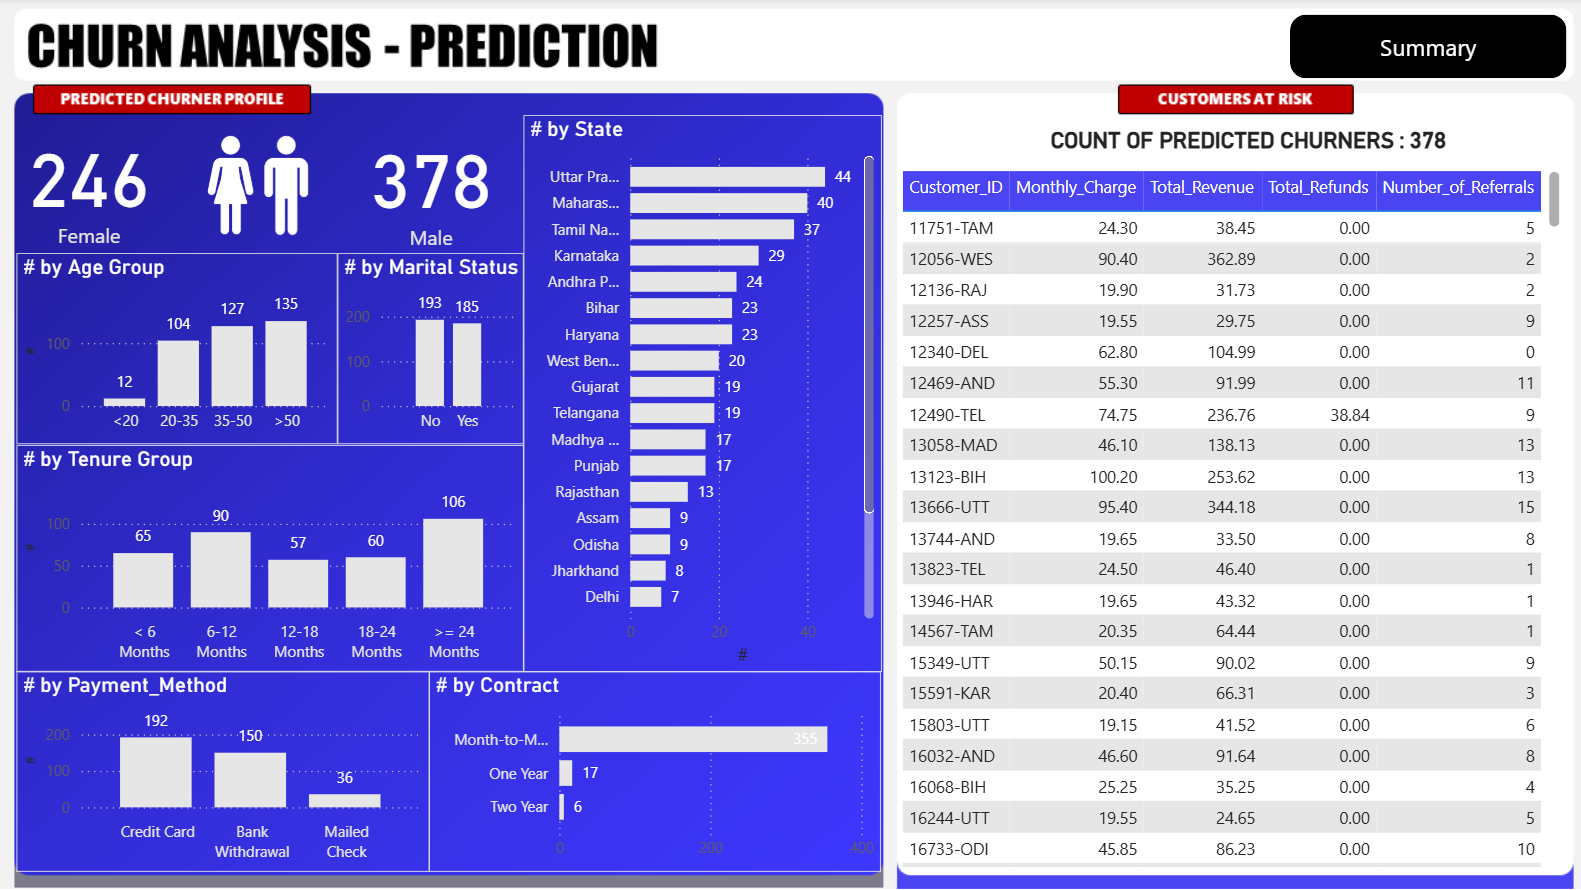

The page's visual inventory and layout, read from the dashboard file:
{"tool":"powerbi","page":{"name":"Churn Prediction","canvas":[1280,720],"ordinal":2},"visuals":[{"type":"tableEx","fields":{"Values":["Predictions.Customer_ID","Predictions.Monthly_Charge","Predictions.Total_Revenue","Predictions.Total_Refunds","Predictions.Number_of_Referrals"]},"box":[721.4,134.3,540,570],"z":0},{"type":"card","fields":{"Values":["tbl_Measures.Title Predicted Churner"]},"box":[731.4,94.3,548.6,40],"z":1},{"type":"card","fields":{"Values":["tbl_Measures.Count Predicted Churner"]},"box":[0,94.3,142.9,110],"z":2},{"type":"card","fields":{"Values":["tbl_Measures.Count Predicted Churner"]},"box":[271.4,95.7,150,110],"z":3},{"type":"clusteredColumnChart","fields":{"Category":["mapping_AgeGrp.Age Group"],"Y":["CountNonNull(Predictions.Customer_ID)"]},"box":[12.9,205.7,258.6,154.3],"z":4},{"type":"clusteredColumnChart","fields":{"Category":["Predictions.Married"],"Y":["CountNonNull(Predictions.Customer_ID)"]},"box":[271.4,205.7,150,154.3],"z":5},{"type":"clusteredColumnChart","fields":{"Y":["CountNonNull(Predictions.Customer_ID)"],"Category":["mapping_TenureGrp.Tenure Group"]},"box":[12.9,360,408.6,182.9],"z":6},{"type":"clusteredColumnChart","fields":{"Y":["CountNonNull(Predictions.Customer_ID)"],"Category":["Predictions.Payment_Method"]},"box":[12.9,542.9,332.9,161.4],"z":7},{"type":"clusteredBarChart","fields":{"Category":["Predictions.Contract"],"Y":["CountNonNull(Predictions.Customer_ID)"]},"box":[345.7,542.9,364.3,161.4],"z":8},{"type":"clusteredBarChart","fields":{"Category":["Predictions.State"],"Y":["CountNonNull(Predictions.Customer_ID)"]},"box":[421.4,94.3,288.6,448.6],"z":9},{"type":"image","box":[150.7,94.3,112.9,111.4],"z":10},{"type":"shape","box":[1038.6,12.9,222.9,51.4],"z":11}]}

Visuals, with their boxes in screenshot pixels (x1, y1, x2, y2), scaled from the page's 1280x720 canvas onto the 1581x890 screenshot:
tableEx - Predictions.Customer_ID x Predictions.Monthly_Charge: {"left": 891, "top": 166, "right": 1558, "bottom": 871}
card - tbl_Measures.Title Predicted Churner: {"left": 903, "top": 117, "right": 1580, "bottom": 166}
card - tbl_Measures.Count Predicted Churner: {"left": 0, "top": 117, "right": 177, "bottom": 253}
card - tbl_Measures.Count Predicted Churner: {"left": 335, "top": 118, "right": 520, "bottom": 254}
clusteredColumnChart - mapping_AgeGrp.Age Group x CountNonNull(Predictions.Customer_ID): {"left": 16, "top": 254, "right": 335, "bottom": 445}
clusteredColumnChart - Predictions.Married x CountNonNull(Predictions.Customer_ID): {"left": 335, "top": 254, "right": 520, "bottom": 445}
clusteredColumnChart - CountNonNull(Predictions.Customer_ID) x mapping_TenureGrp.Tenure Group: {"left": 16, "top": 445, "right": 521, "bottom": 671}
clusteredColumnChart - CountNonNull(Predictions.Customer_ID) x Predictions.Payment_Method: {"left": 16, "top": 671, "right": 427, "bottom": 871}
clusteredBarChart - Predictions.Contract x CountNonNull(Predictions.Customer_ID): {"left": 427, "top": 671, "right": 877, "bottom": 871}
clusteredBarChart - Predictions.State x CountNonNull(Predictions.Customer_ID): {"left": 520, "top": 117, "right": 877, "bottom": 671}
image: {"left": 186, "top": 117, "right": 326, "bottom": 254}
shape: {"left": 1283, "top": 16, "right": 1558, "bottom": 79}
